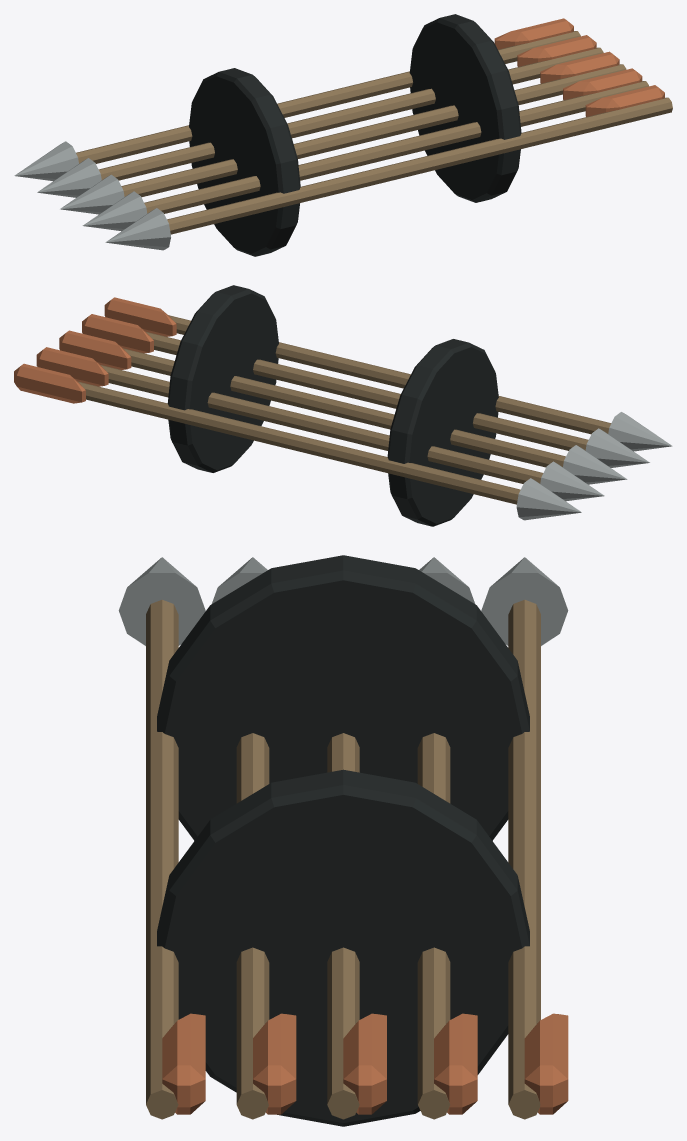
File: item_bolt.glb
3 views of the same model, one above another, from view 1: azimuth 30°, elevation 25°; view 2: azimuth 150°, elevation 25°; view 3: azimuth 270°, elevation 25° (orthographic). The views are drawn at different scales.
Visible parts, largest first — view 1: item_bolt; view 2: item_bolt; view 3: item_bolt.
Part boxes in pixels (x1,y1,x2,y2): item_bolt: (14, 14, 672, 256); item_bolt: (14, 285, 672, 526); item_bolt: (118, 555, 568, 1126).
Bounding box in the file's own units: 0.3575 × 0.104 × 0.124.
